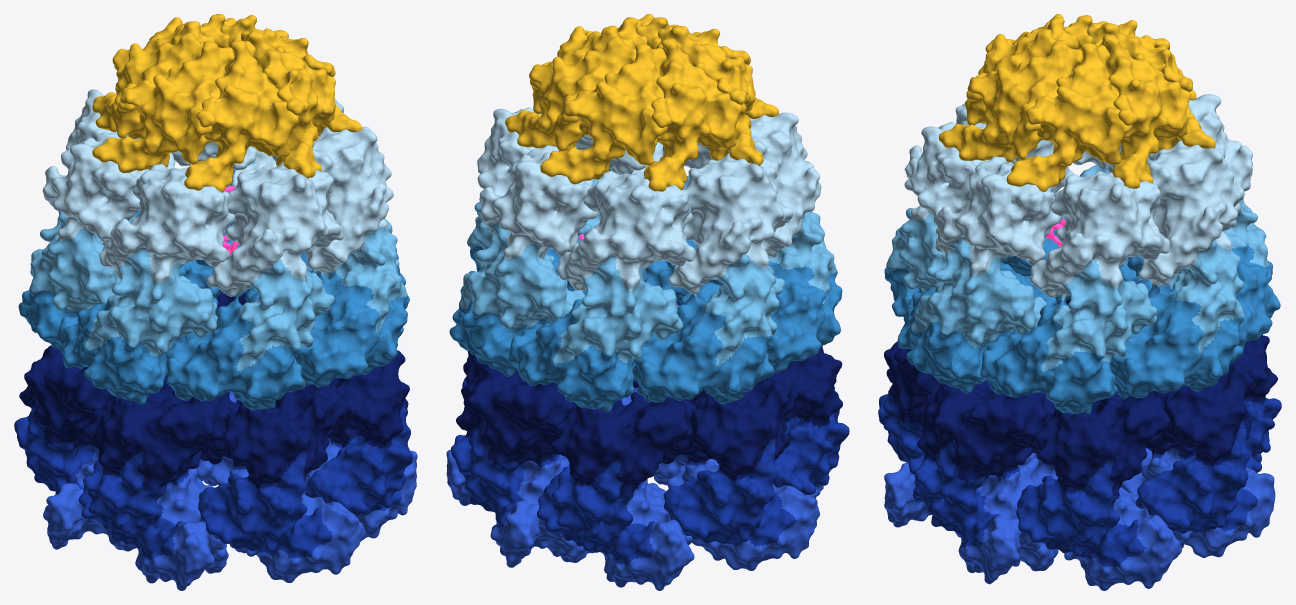
The model's file is groel-groes.glb.
3 views of the same model, side by side, from view 1: azimuth 30°, elevation 25°; view 2: azimuth 150°, elevation 25°; view 3: azimuth 270°, elevation 25° (orthographic).
Parts seen in each view (by area): view 1: Back_Half, Slab_12, Slab_11, Slab_05, Slab_04, Slab_06, Slab_10, Slab_07, Slab_13, Slab_03, Slab_09, Slab_08 (+13 smaller); view 2: Back_Half, Slab_16, Slab_17, Slab_19, Slab_21, Slab_18, Slab_15, Slab_22, Slab_23, Slab_14, Slab_20, Slab_13 (+1 smaller); view 3: Back_Half, Slab_19, Slab_13, Slab_20, Slab_14, Slab_18, Slab_15, Slab_22, Slab_17, Slab_16, Slab_21, Slab_23 (+12 smaller).
Part boxes in pixels (x1,y1,x2,y2): Back_Half: (14, 14, 363, 549); Slab_12: (109, 94, 415, 583); Slab_11: (124, 98, 405, 578); Slab_05: (185, 179, 413, 582); Slab_04: (204, 207, 410, 582); Slab_06: (178, 174, 412, 586); Slab_10: (134, 106, 406, 581); Slab_07: (173, 167, 410, 590); Slab_13: (99, 84, 417, 583); Slab_03: (233, 233, 396, 572); Slab_09: (151, 154, 408, 581); Slab_08: (165, 160, 410, 588); Back_Half: (446, 25, 815, 590); Slab_16: (593, 23, 840, 484); Slab_17: (588, 26, 838, 483); Slab_19: (576, 17, 824, 491); Slab_21: (577, 17, 821, 516); Slab_18: (584, 20, 830, 480); Slab_15: (593, 15, 841, 486); Slab_22: (569, 20, 818, 520); Slab_23: (562, 29, 817, 529); Slab_14: (595, 14, 848, 484); Slab_20: (575, 17, 818, 494); Slab_13: (609, 32, 849, 497); Back_Half: (1078, 15, 1281, 590); Slab_19: (1036, 24, 1047, 570); Slab_13: (984, 39, 996, 584); Slab_20: (1044, 16, 1055, 569); Slab_14: (993, 34, 1005, 580); Slab_18: (1027, 29, 1038, 571); Slab_15: (1002, 35, 1013, 574); Slab_22: (1061, 19, 1072, 560); Slab_17: (1019, 31, 1030, 565); Slab_16: (1010, 36, 1022, 566); Slab_21: (1053, 14, 1064, 557); Slab_23: (1070, 16, 1081, 561).
Bounding box in the file's own units: 1.47 × 2.02 × 1.47.
